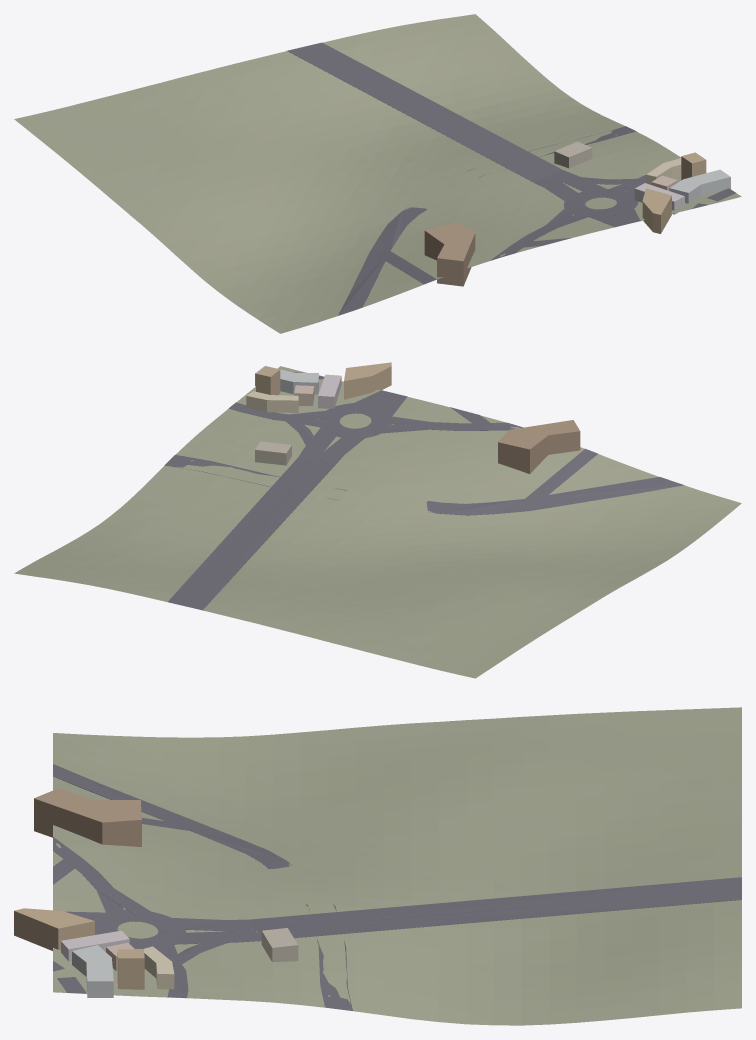
The model's file is chunk_5_3.glb.
3 renders of one model, top to bottom at view 1: azimuth 30°, elevation 25°; view 2: azimuth 150°, elevation 25°; view 3: azimuth 270°, elevation 25°, orthographic. The views are drawn at different scales.
Parts seen in each view (by area): view 1: geometry_8, geometry_15, geometry_11, geometry_13, geometry_2, geometry_7, geometry_16, geometry_3, geometry_1, geometry_18, geometry_5, geometry_4; view 2: geometry_8, geometry_13, geometry_15, geometry_11, geometry_2, geometry_16, geometry_3, geometry_18, geometry_4, geometry_1, geometry_7, geometry_14 (+4 smaller); view 3: geometry_8, geometry_15, geometry_11, geometry_2, geometry_13, geometry_3, geometry_7, geometry_16, geometry_5, geometry_1, geometry_0, geometry_4 (+5 smaller).
Boxes of the visible parts, x1=… form: geometry_8: x1=14, y1=14, x2=741, y2=333; geometry_15: x1=287, y1=47, x2=549, y2=182; geometry_11: x1=304, y1=42, x2=562, y2=175; geometry_13: x1=338, y1=126, x2=636, y2=315; geometry_2: x1=424, y1=222, x2=475, y2=286; geometry_7: x1=669, y1=169, x2=730, y2=203; geometry_16: x1=564, y1=189, x2=638, y2=216; geometry_3: x1=642, y1=188, x2=671, y2=233; geometry_1: x1=554, y1=141, x2=592, y2=168; geometry_18: x1=378, y1=250, x2=436, y2=284; geometry_5: x1=681, y1=152, x2=706, y2=180; geometry_4: x1=646, y1=158, x2=681, y2=184; geometry_8: x1=14, y1=366, x2=741, y2=678; geometry_13: x1=164, y1=455, x2=684, y2=515; geometry_15: x1=184, y1=459, x2=337, y2=610; geometry_11: x1=168, y1=457, x2=316, y2=606; geometry_2: x1=498, y1=420, x2=580, y2=473; geometry_16: x1=319, y1=403, x2=392, y2=438; geometry_3: x1=344, y1=362, x2=391, y2=399; geometry_18: x1=522, y1=449, x2=597, y2=503; geometry_4: x1=246, y1=391, x2=298, y2=412; geometry_1: x1=255, y1=441, x2=291, y2=465; geometry_7: x1=255, y1=366, x2=318, y2=394; geometry_14: x1=428, y1=422, x2=523, y2=430; geometry_8: x1=53, y1=707, x2=741, y2=1025; geometry_15: x1=249, y1=877, x2=741, y2=930; geometry_11: x1=257, y1=887, x2=741, y2=940; geometry_2: x1=34, y1=788, x2=141, y2=846; geometry_13: x1=53, y1=764, x2=353, y2=1010; geometry_3: x1=14, y1=908, x2=94, y2=950; geometry_7: x1=72, y1=945, x2=113, y2=997; geometry_16: x1=95, y1=909, x2=185, y2=948; geometry_5: x1=117, y1=949, x2=144, y2=989; geometry_1: x1=261, y1=928, x2=298, y2=961; geometry_0: x1=61, y1=930, x2=129, y2=961; geometry_4: x1=144, y1=946, x2=174, y2=989.
Size of the model in its own units: 251 by 26.8 by 264.
